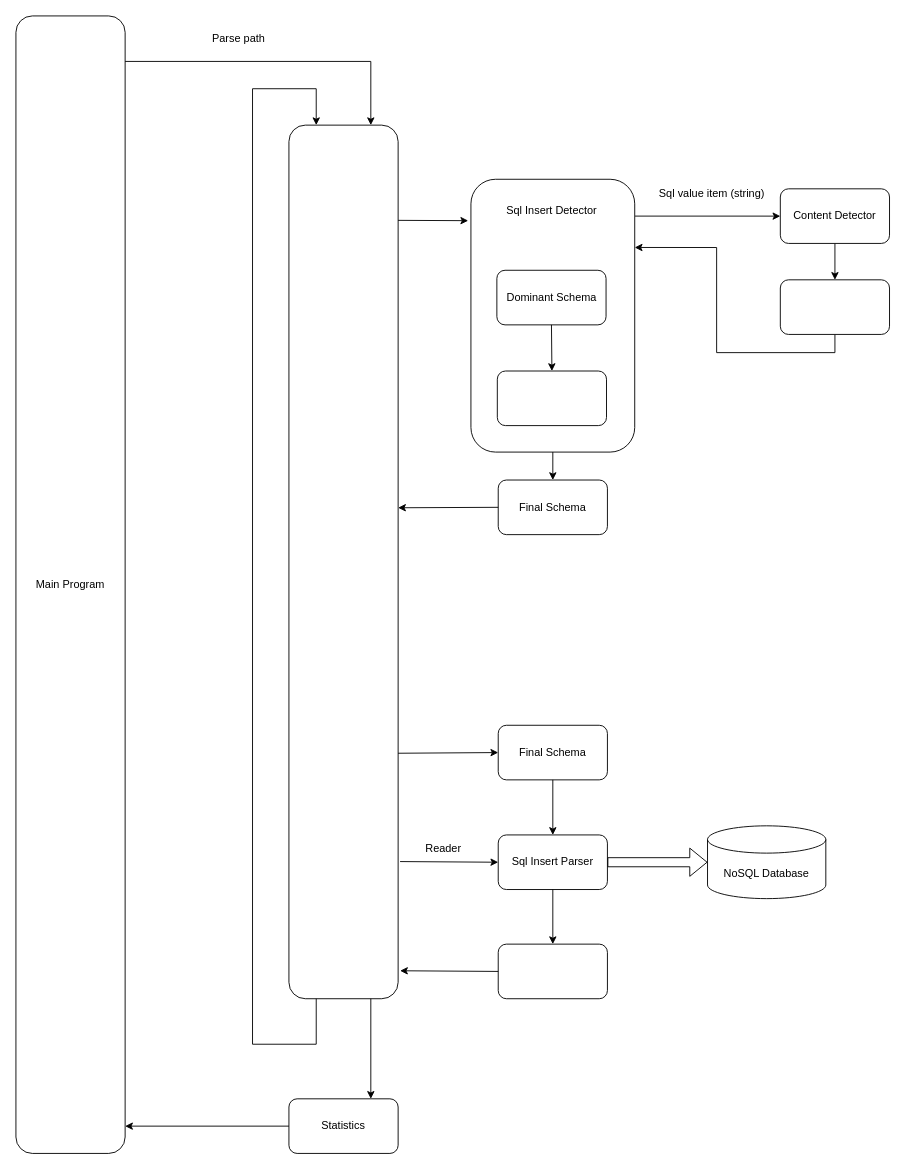
Image size: 905x1169. Some labels were removed from this diagram. Each missing label, with the centre of its shape:
"Content Parser" goes at (x=343, y=561).
"Header Guesser" goes at (x=551, y=398).
"Parsing Result" goes at (x=552, y=971).
"Schema Heuristic Record" goes at (x=834, y=306).
